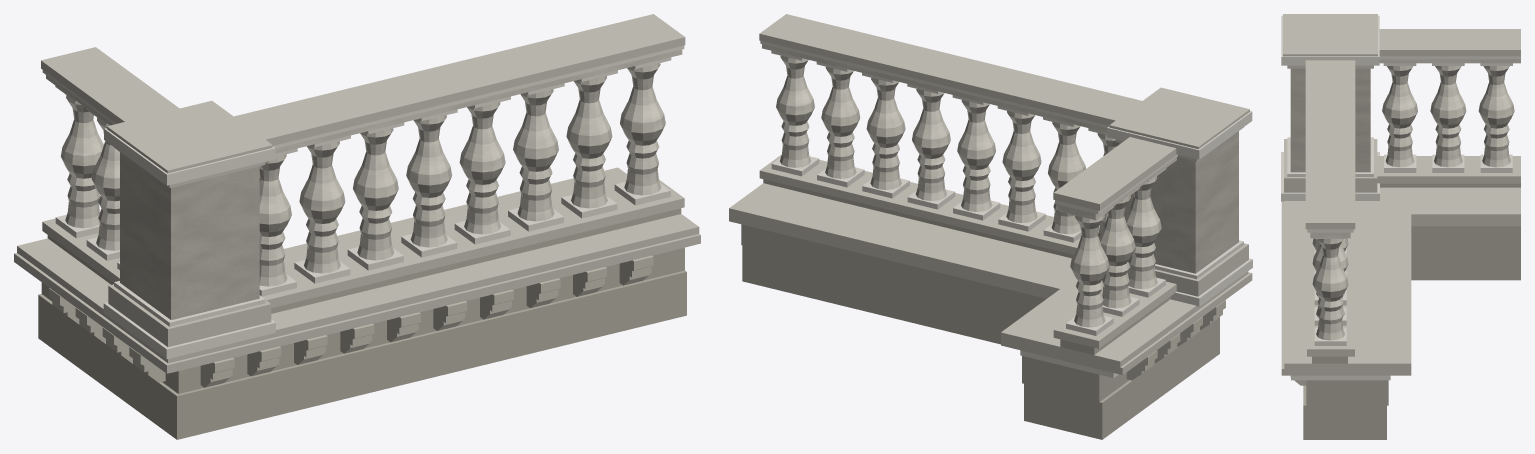
File: kangping-terrace-far.glb
The picture shows the model from 3 angles, left to right: view 1: azimuth 30°, elevation 25°; view 2: azimuth 150°, elevation 25°; view 3: azimuth 270°, elevation 25°; orthographic projection. The views are drawn at different scales.
Parts seen in each view (by area): view 1: 康平路205号花园住宅露台瓶栏与檐托; view 2: 康平路205号花园住宅露台瓶栏与檐托; view 3: 康平路205号花园住宅露台瓶栏与檐托.
Boxes of the visible parts, x1=… form: 康平路205号花园住宅露台瓶栏与檐托: x1=14, y1=14, x2=700, y2=439; 康平路205号花园住宅露台瓶栏与檐托: x1=729, y1=14, x2=1252, y2=439; 康平路205号花园住宅露台瓶栏与檐托: x1=1281, y1=14, x2=1520, y2=439.
Bounding box in the file's own units: 2.57 × 1.31 × 1.28.
6 materials, 2 textured.
